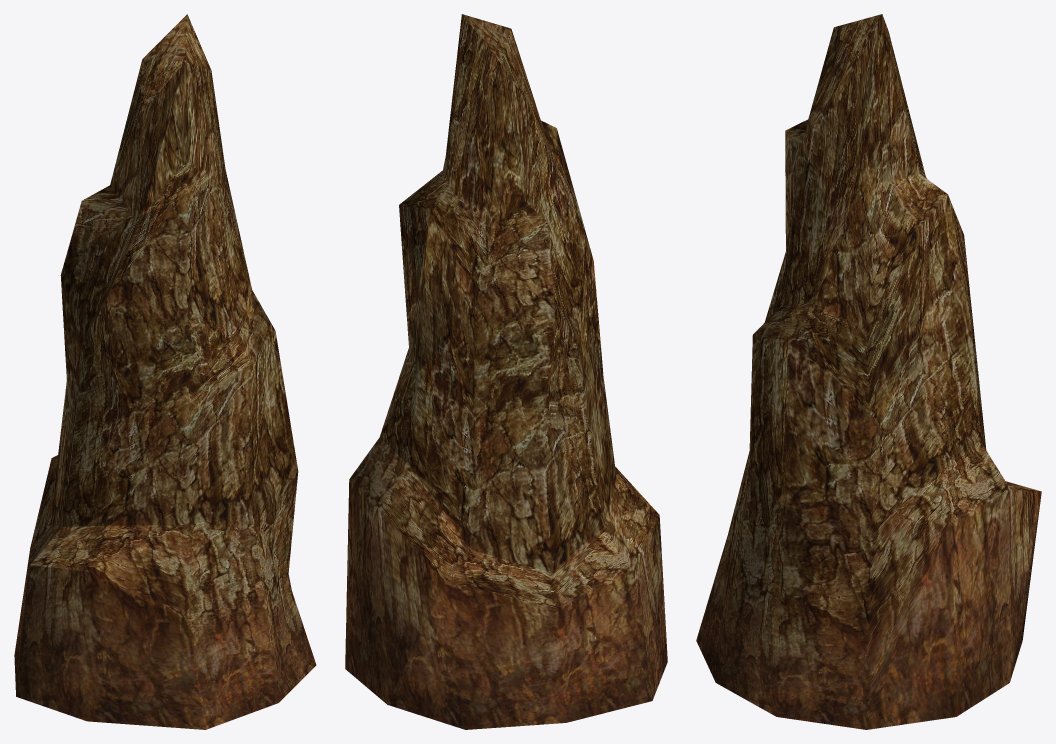
File: hr_rock8.glb
3 renders of one model, left to right at view 1: azimuth 30°, elevation 25°; view 2: azimuth 150°, elevation 25°; view 3: azimuth 270°, elevation 25°, orthographic. The views are drawn at different scales.
Parts seen in each view (by area): view 1: hr_rock8; view 2: hr_rock8; view 3: hr_rock8.
Boxes of the visible parts, bbox=[...] form: hr_rock8: bbox=[14, 14, 316, 729]; hr_rock8: bbox=[345, 14, 667, 729]; hr_rock8: bbox=[696, 14, 1041, 729].
Bounding box in the file's own units: 9.43 × 20.18 × 9.53.
2 materials, 2 textured.
